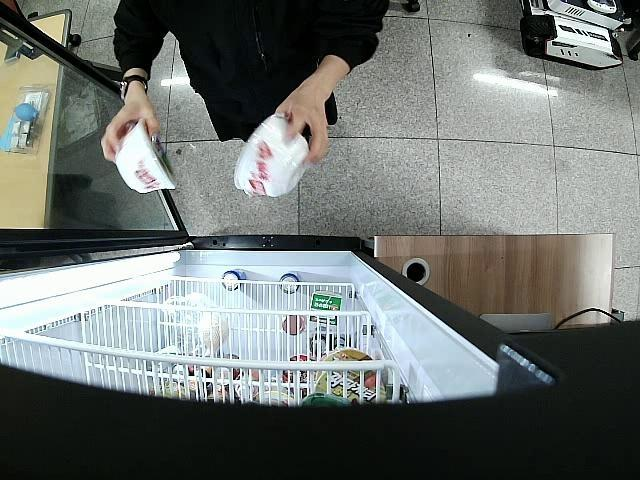09_yukGaeJang: (233, 113, 310, 200), (113, 116, 180, 194)
